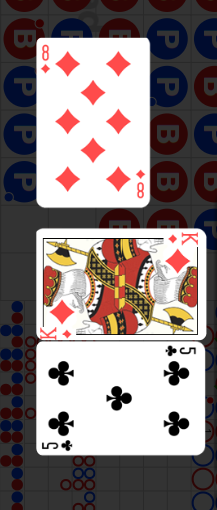5C: (163, 344, 198, 358)
8D: (40, 44, 52, 76), (135, 168, 146, 199)
